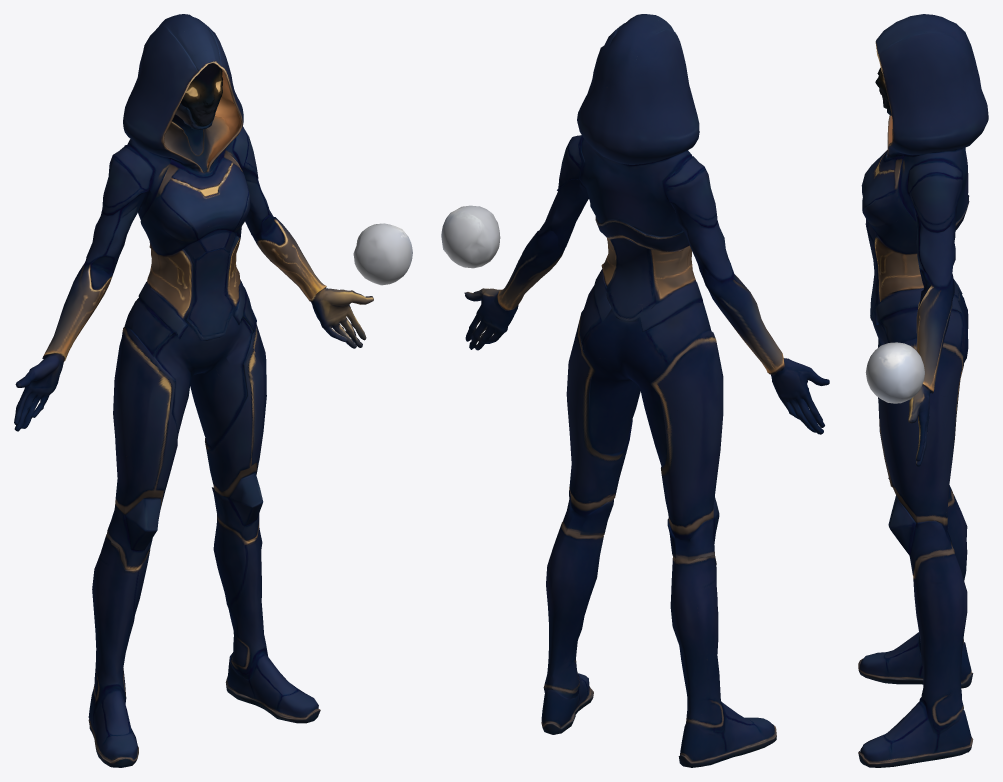
The model's file is aria-meshy-t2.5.glb.
3 renders of one model, left to right at view 1: azimuth 30°, elevation 25°; view 2: azimuth 150°, elevation 25°; view 3: azimuth 270°, elevation 25°, orthographic. The views are drawn at different scales.
Parts seen in each view (by area): view 1: geometry_0; view 2: geometry_0; view 3: geometry_0.
Boxes of the visible parts, box(x1,y1,x2,y2) form: geometry_0: box(14, 14, 412, 767); geometry_0: box(441, 14, 829, 767); geometry_0: box(858, 14, 988, 767).
Size of the model in its own units: 0.5454 by 0.9507 by 0.1602.
1 material, 1 textured.
